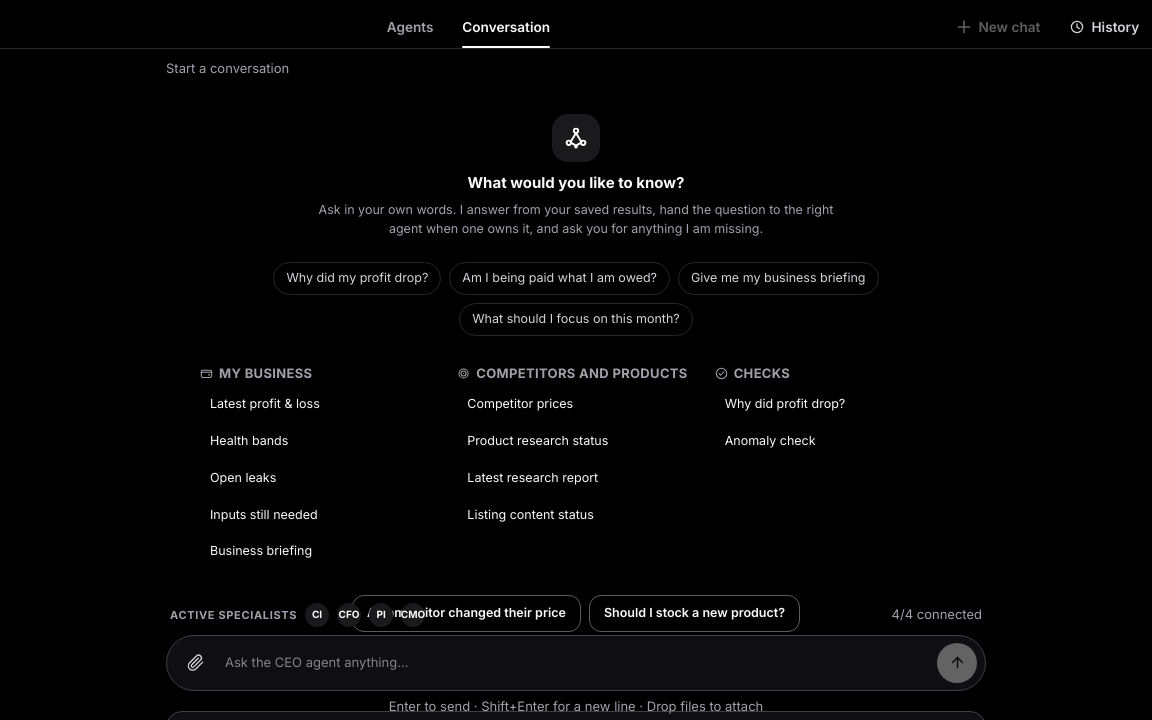
it: a new message while another turn of this conversation is still running › is told it was refused as a notice, and the running task is not shown as failed
The width and height of the screenshot is (1152, 720).
Click the button with test id "open-drawer": (1104, 27) [1056,8,1151,46]
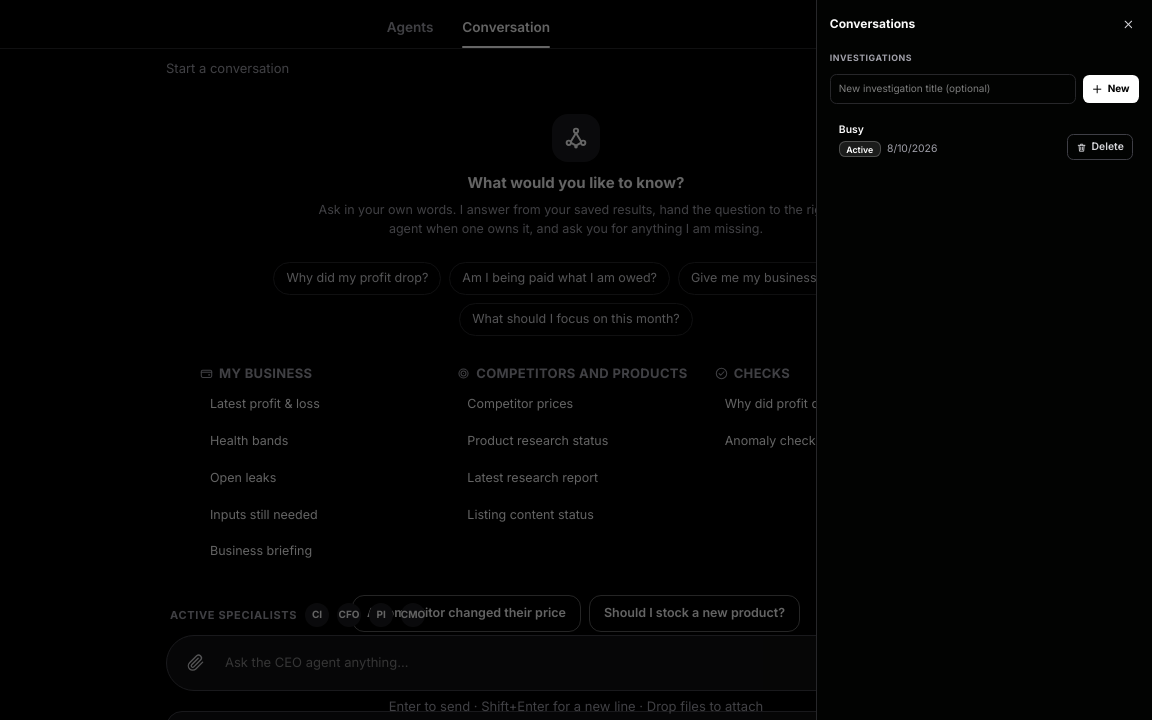
Click the button "Busy Active 8/10/2026": (860, 149) [830,113,1139,166]
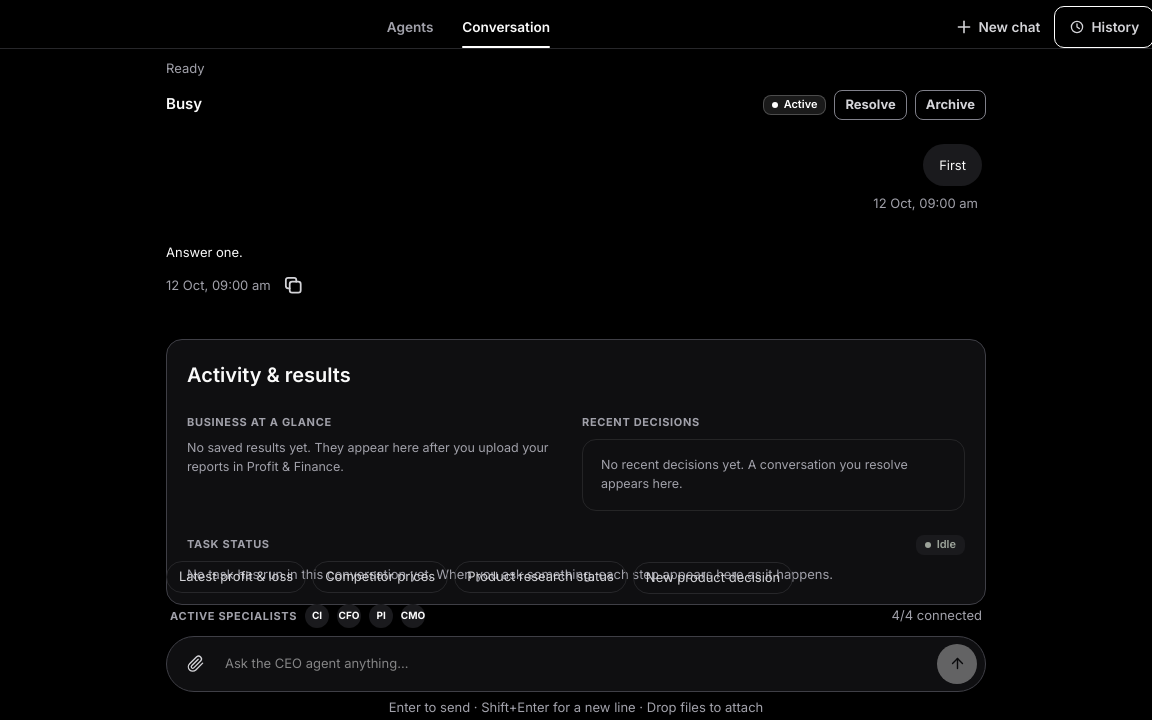
expect the element with test id "conversation" is shown: met, box [166,90,986,327]
In the text box labelled "Ask the CEO": (576, 663) [221,643,931,683], type "Second question"
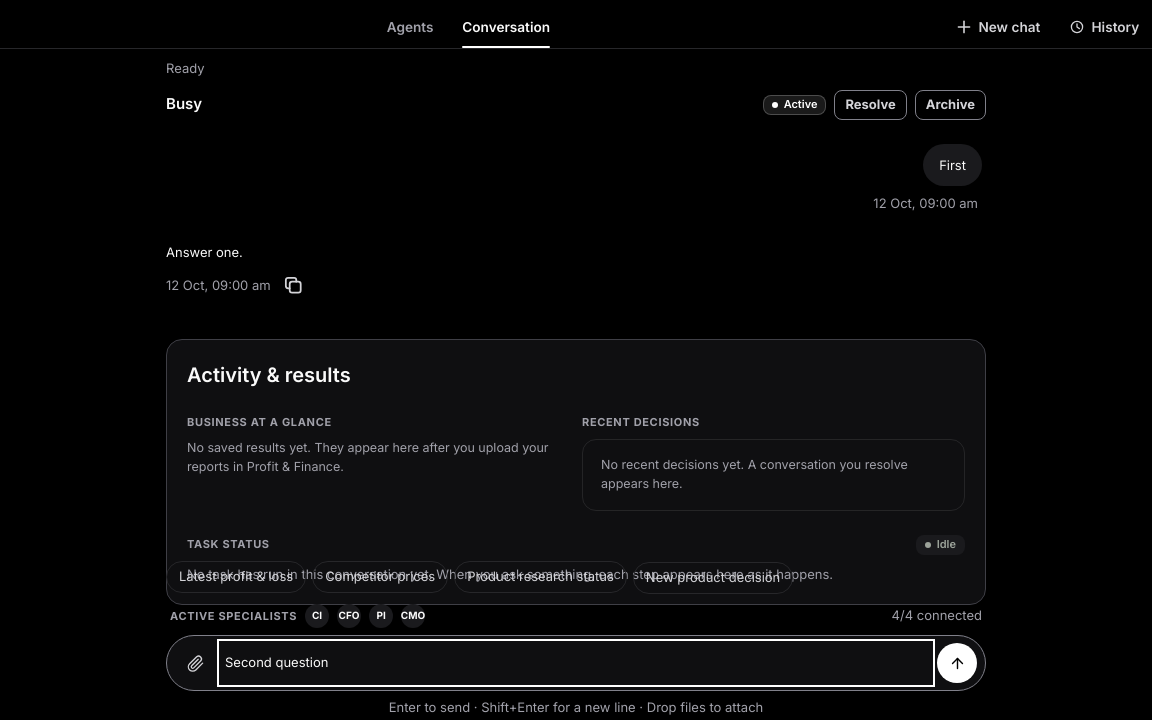
Click the button named "Send": (957, 663) [937,643,977,683]
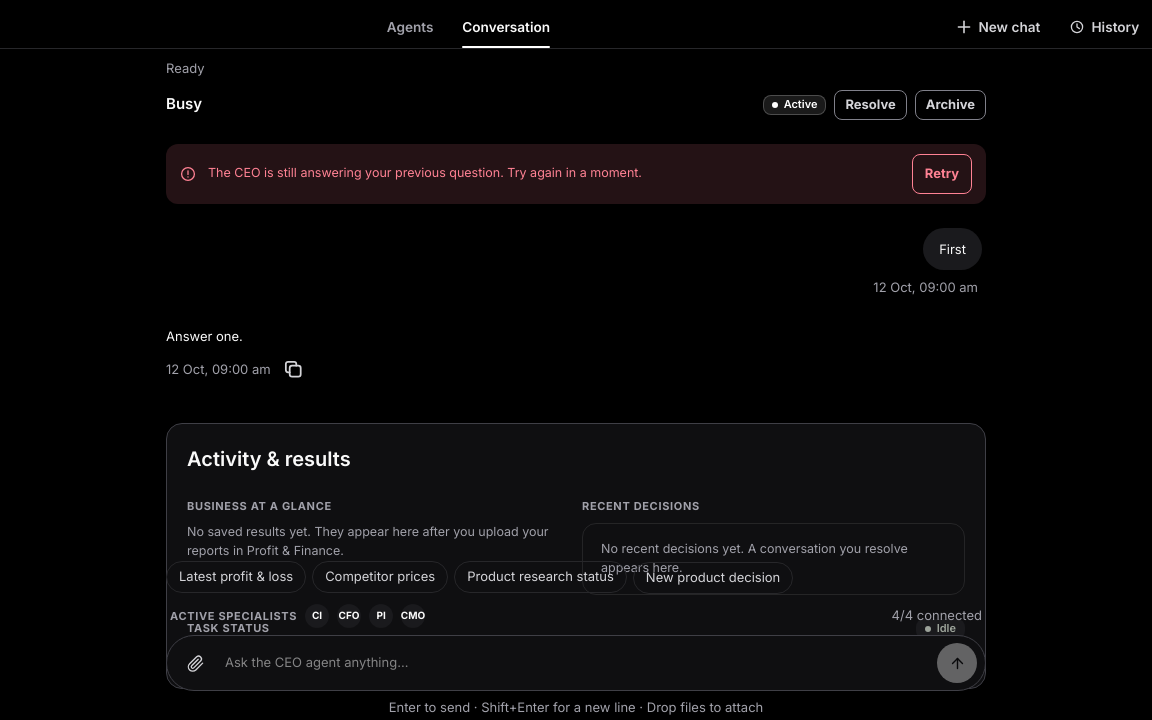
expect the text "still answering your previous question" is shown: met, box [208,165,642,180]
